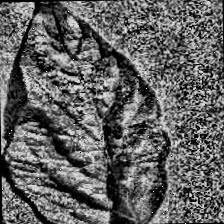spider mites: (3, 0, 172, 224)
